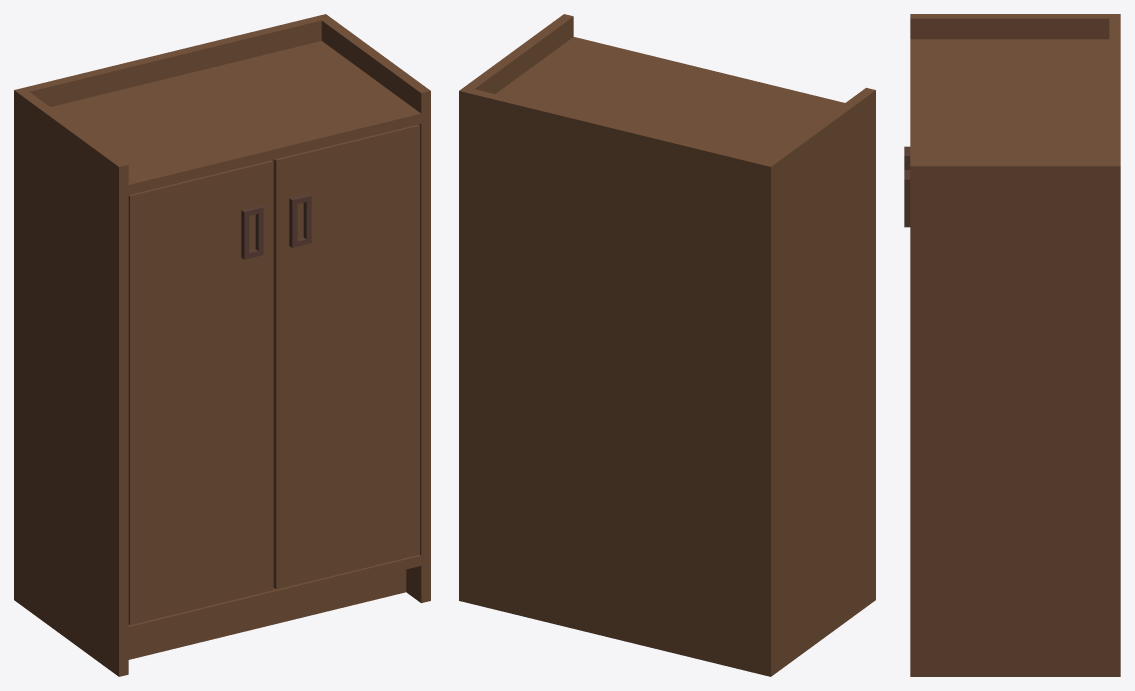
File: stationary_cabinet.glb
3 views of the same model, side by side, from view 1: azimuth 30°, elevation 25°; view 2: azimuth 150°, elevation 25°; view 3: azimuth 270°, elevation 25° (orthographic).
Visible parts, largest first — view 1: stationary_cabinet; view 2: stationary_cabinet; view 3: stationary_cabinet.
Part boxes in pixels (<box>): stationary_cabinet: <box>14,14,430,676</box>; stationary_cabinet: <box>459,14,875,676</box>; stationary_cabinet: <box>904,14,1120,676</box>.
Size of the model in its own units: 24 by 37.5 by 14.4.
